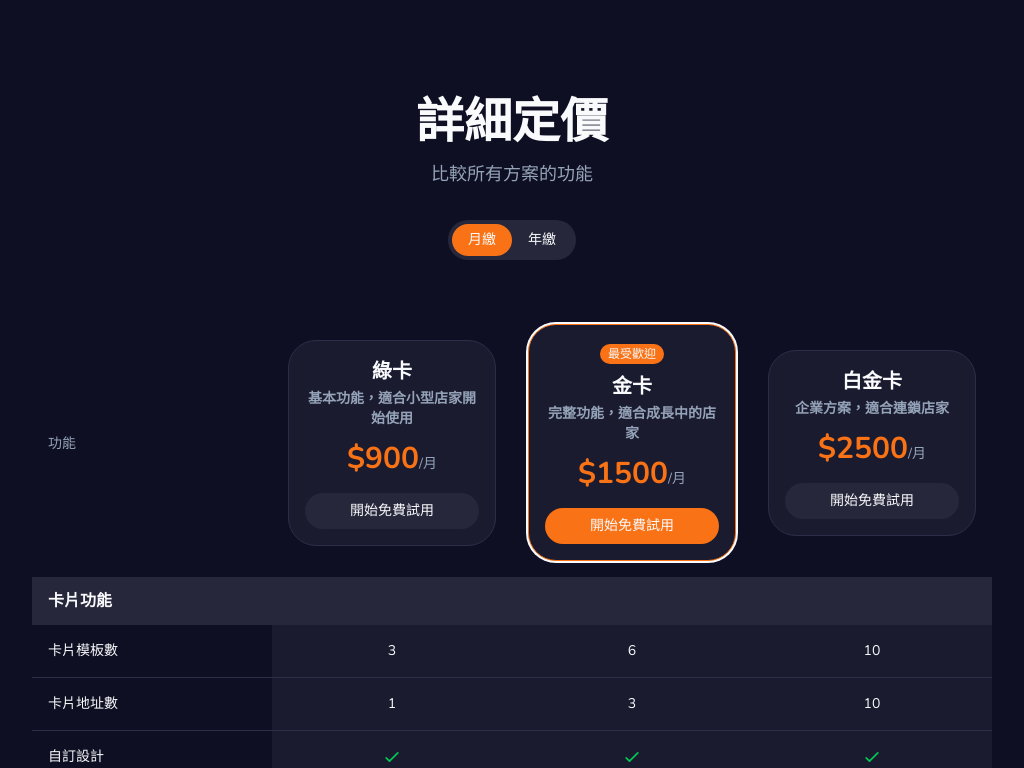
Test case: BDD: DetailedPricingPage Gherkin 場景對應 › Pricing toggle › switches back to monthly prices when monthly button clicked
Click the button "年繳": [542, 240] box [512,224,572,256]
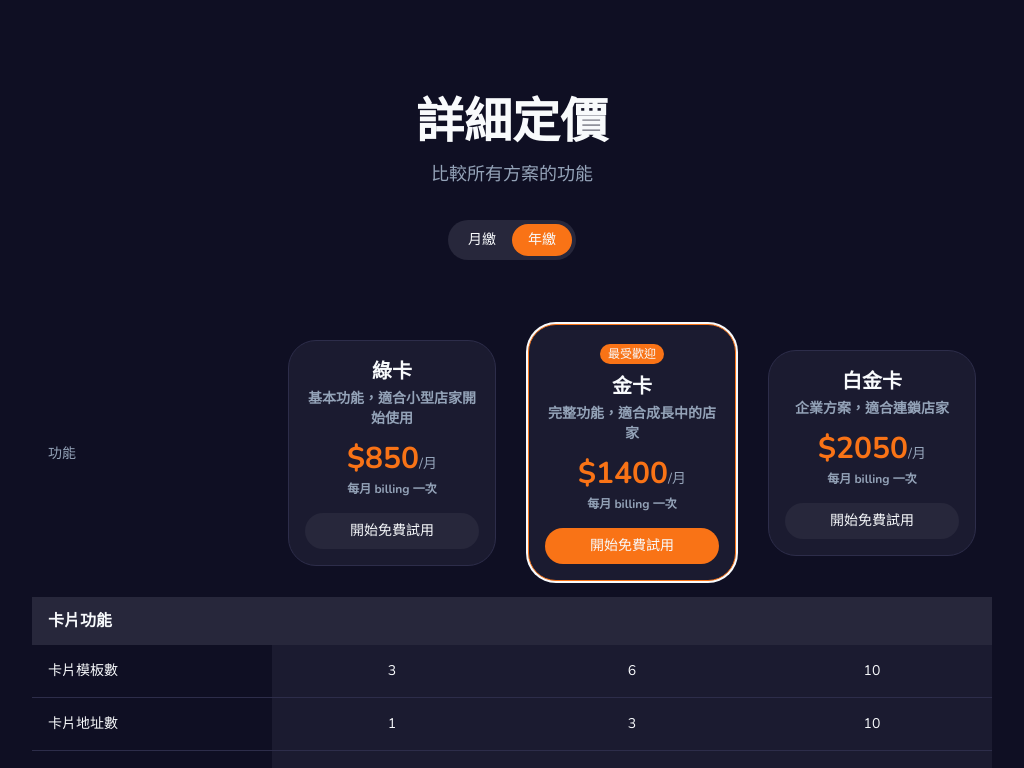
Click the button "月繳": [482, 240] box [452,224,512,256]
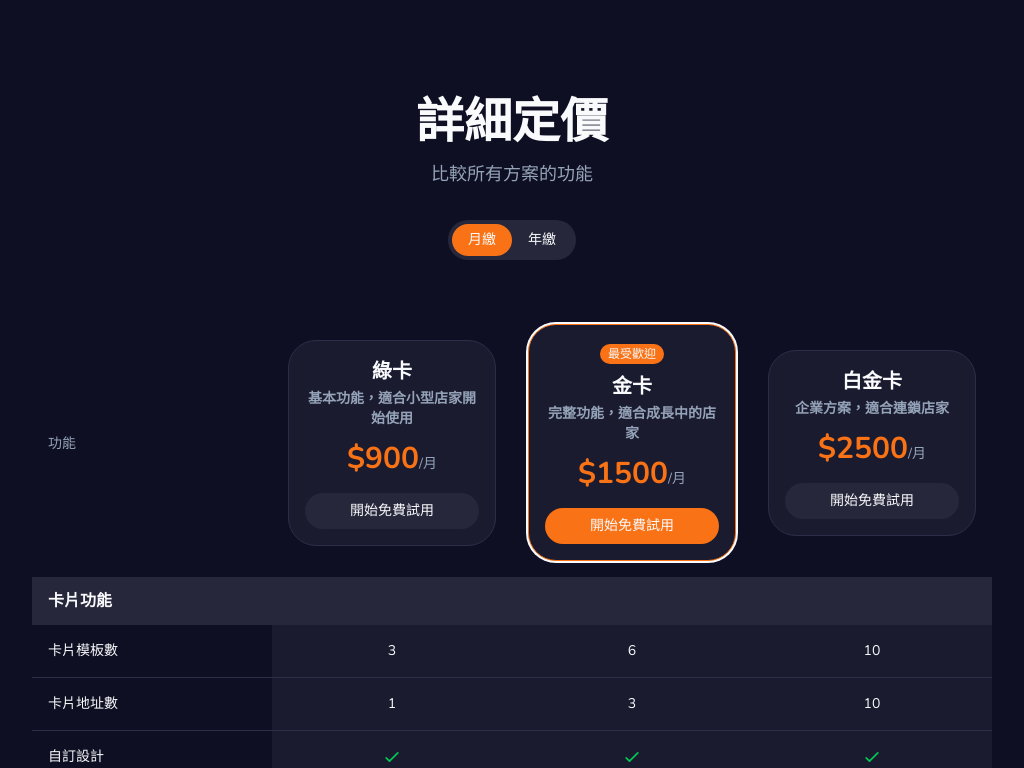
Expected: the text "$900" is shown, [347,438,437,478]
Expected: the text "$1500" is shown, [578,453,686,494]
Expected: the text "$2500" is shown, [818,428,926,468]
